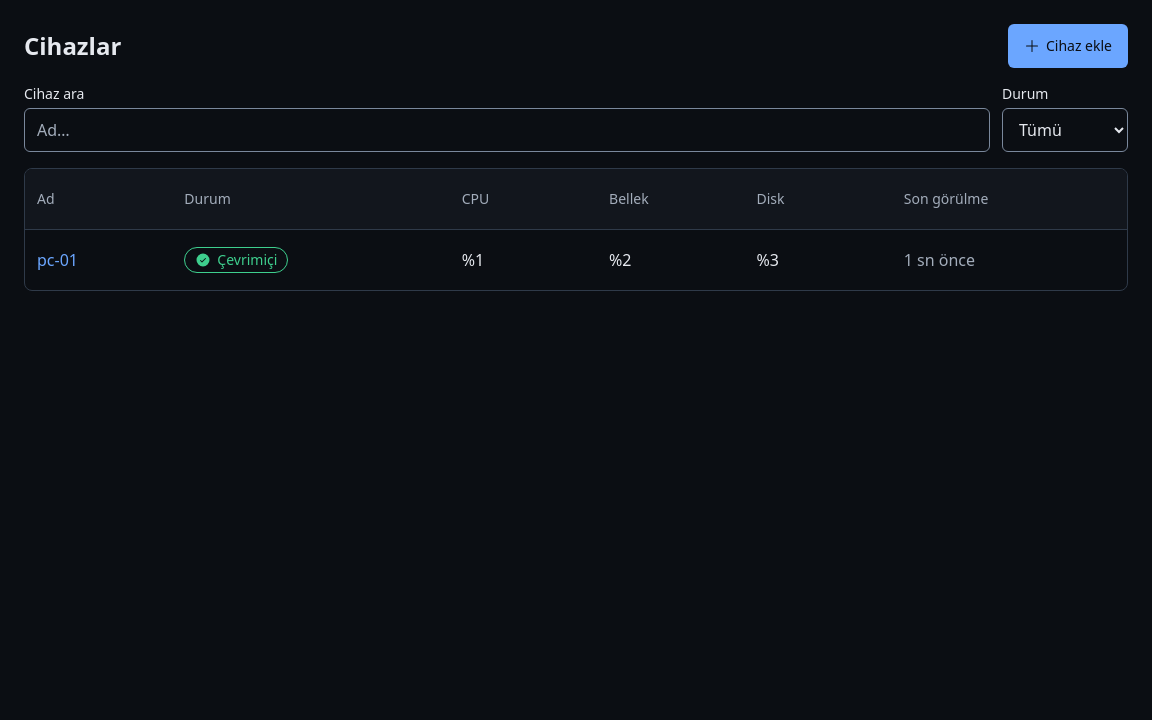
Cihaz ekle (enrollment token) › Kopyala: panoya yazar ve 'Kopyalandi' bildirir; pano reddederse yedek mesaj
The image size is (1152, 720).
Click the button "Cihaz ekle" at (1068, 46), box [1008,24,1128,68]
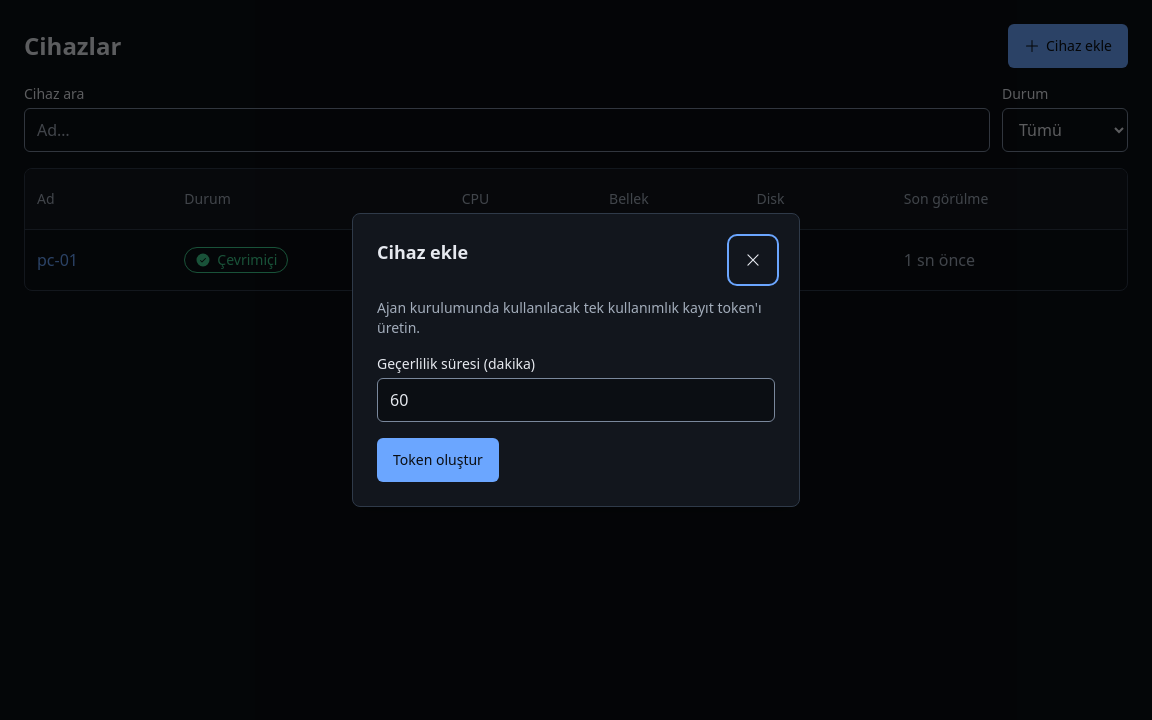
Click the button "Token oluştur" at (438, 460), box [377,438,499,482]
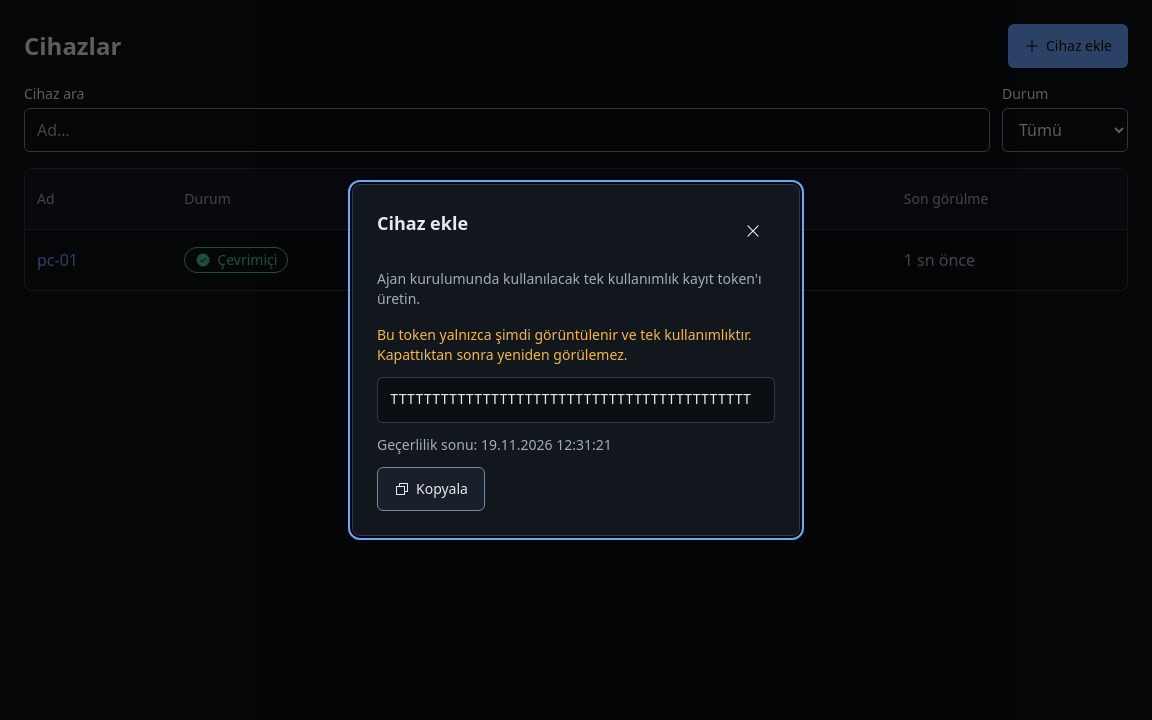
Click the button "Kopyala" at (431, 489), box [377,467,485,511]
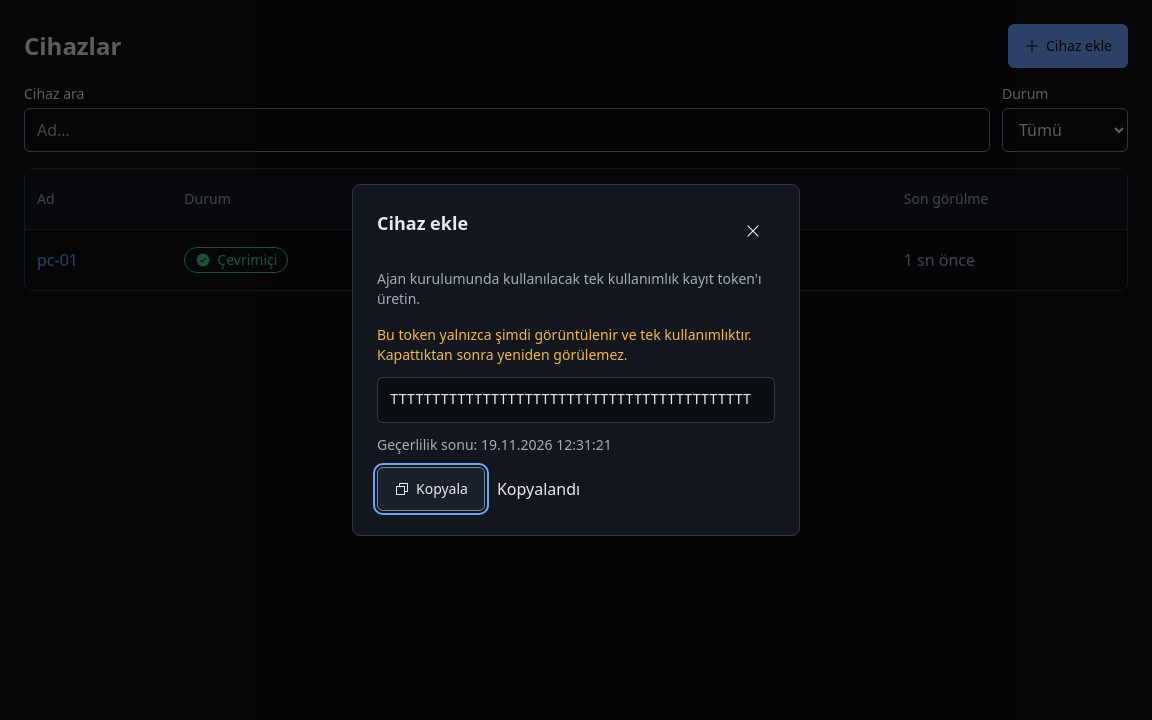
Expected: the text "Kopyalandı" is shown, [497,477,580,501]
Click the button "Kopyala" at (431, 489), box [377,467,485,511]
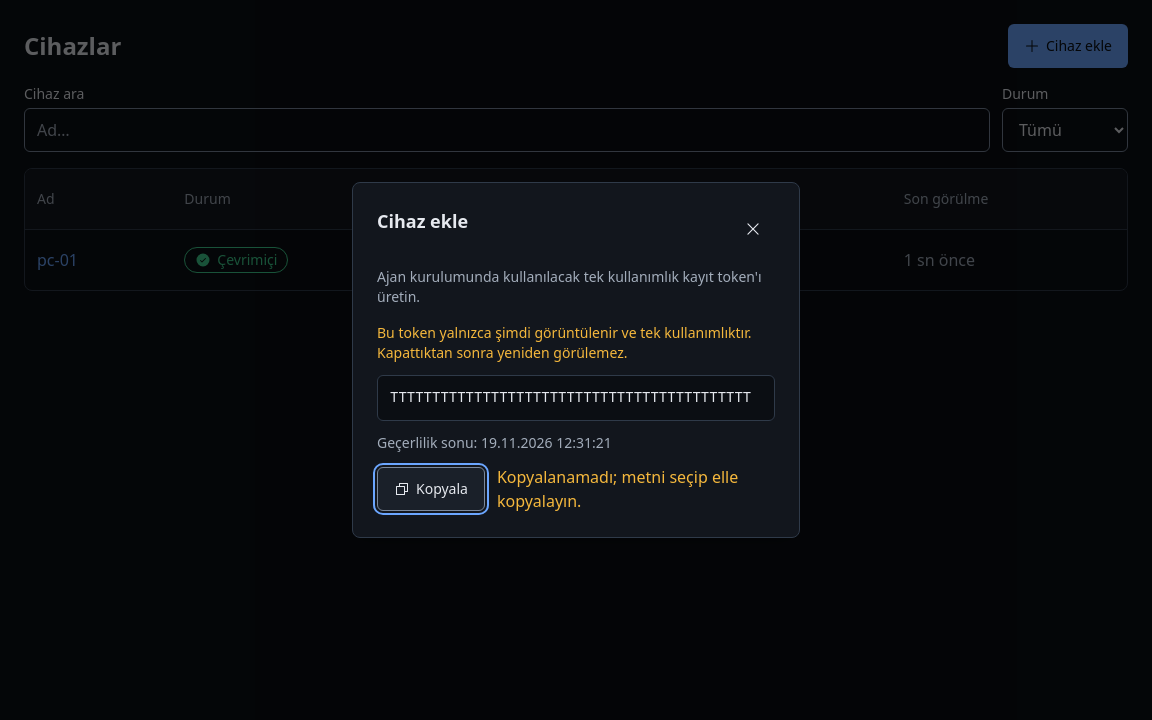
Expected: the text "Kopyalanamadı; metni seçip elle kopyalayın." is shown, [497,465,775,513]
